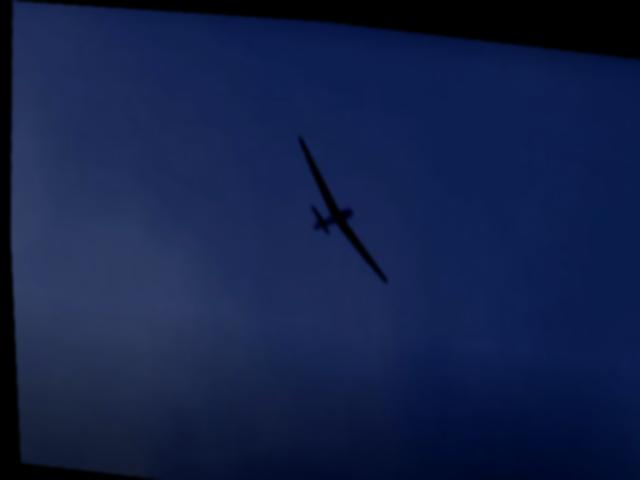iha: (292, 133, 390, 273)
